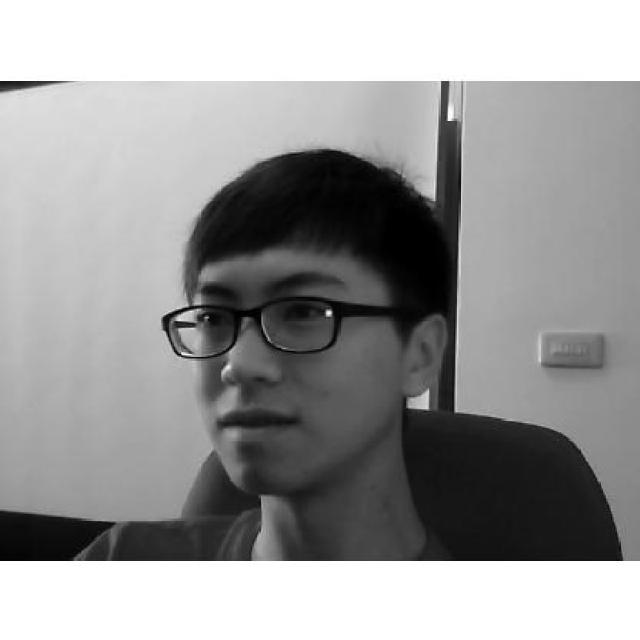attentif: (157, 148, 449, 495)
